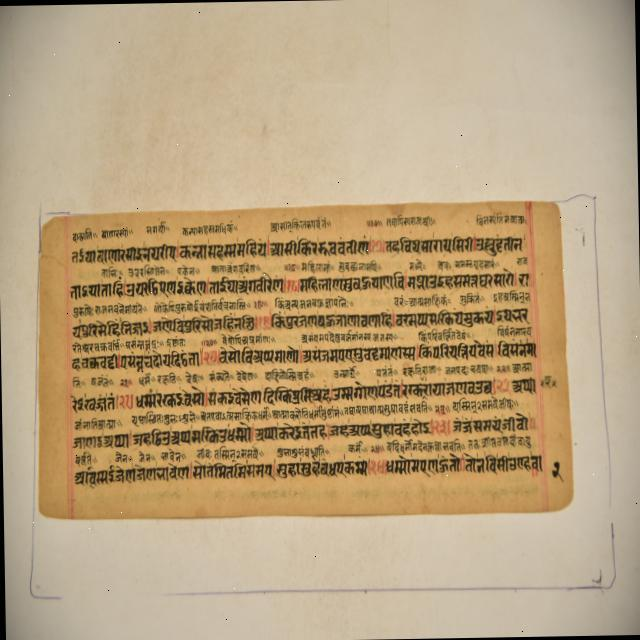text_paragraph: (39, 201, 574, 519)
